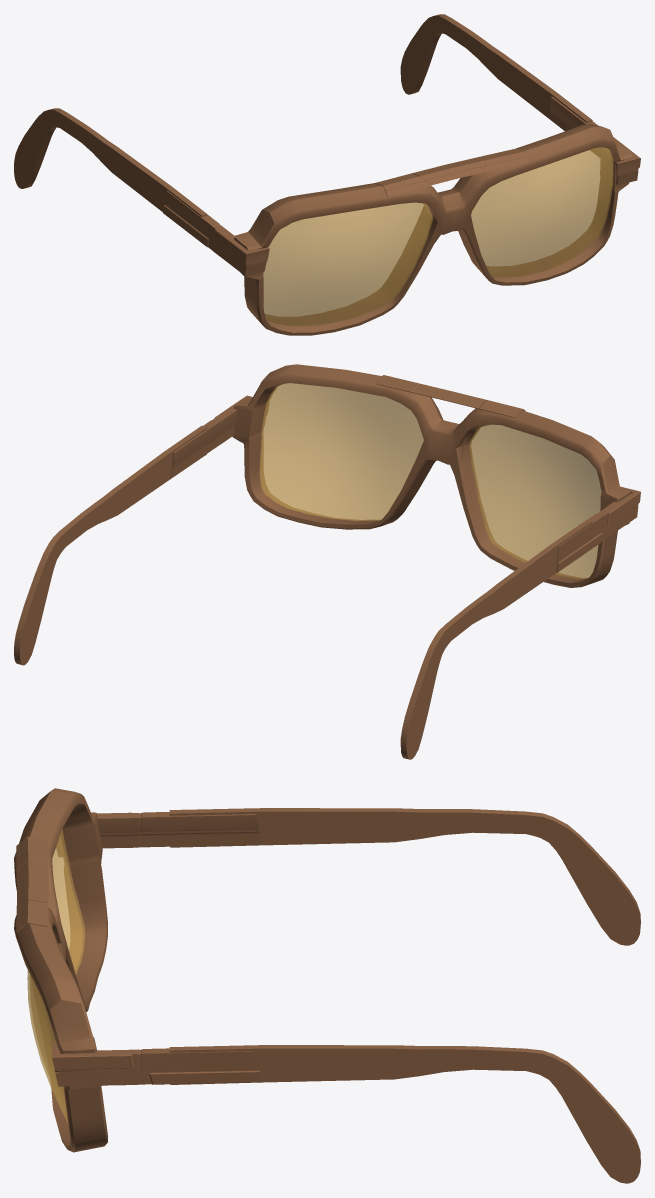
Rendered from model_16_amber_brown.glb.
3 views of the same model, one above another, from view 1: azimuth 30°, elevation 25°; view 2: azimuth 150°, elevation 25°; view 3: azimuth 270°, elevation 25° (orthographic). The views are drawn at different scales.
Visible parts, largest first — view 1: model_16_cokelat_amber; view 2: model_16_cokelat_amber; view 3: model_16_cokelat_amber.
Part boxes in pixels (bbox=[...]): model_16_cokelat_amber: bbox=[14, 14, 640, 335]; model_16_cokelat_amber: bbox=[14, 364, 640, 759]; model_16_cokelat_amber: bbox=[14, 788, 640, 1183].
Bounding box in the file's own units: 0.6398 × 0.2292 × 0.6973.
